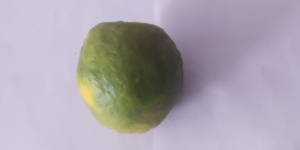BAD: (73, 17, 188, 136)
